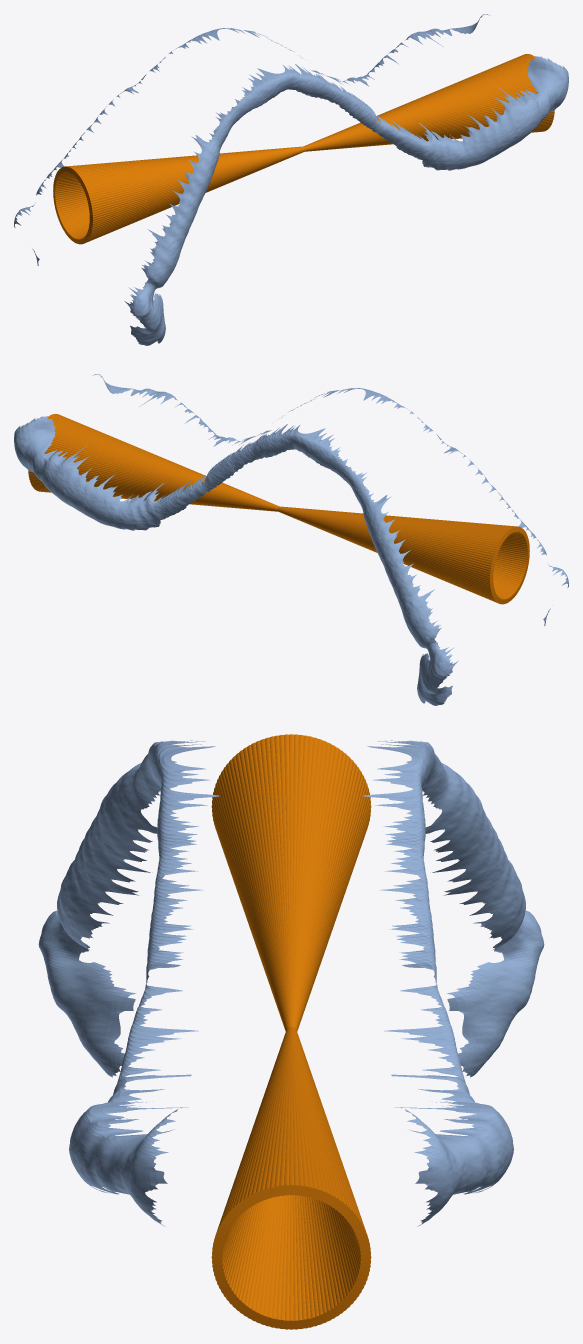
Rendered from 20120475_5995-37-507-2426_DigitalTwin.glb.
The picture shows the model from 3 angles, top to bottom: view 1: azimuth 30°, elevation 25°; view 2: azimuth 150°, elevation 25°; view 3: azimuth 270°, elevation 25°; orthographic projection. The views are drawn at different scales.
Parts seen in each view (by area): view 1: world; view 2: world; view 3: world.
Part boxes in pixels (x1,y1,x2,y2): world: (14, 14, 568, 345); world: (14, 374, 568, 705); world: (38, 734, 544, 1329).
Size of the model in its own units: 396 by 184 by 187.
